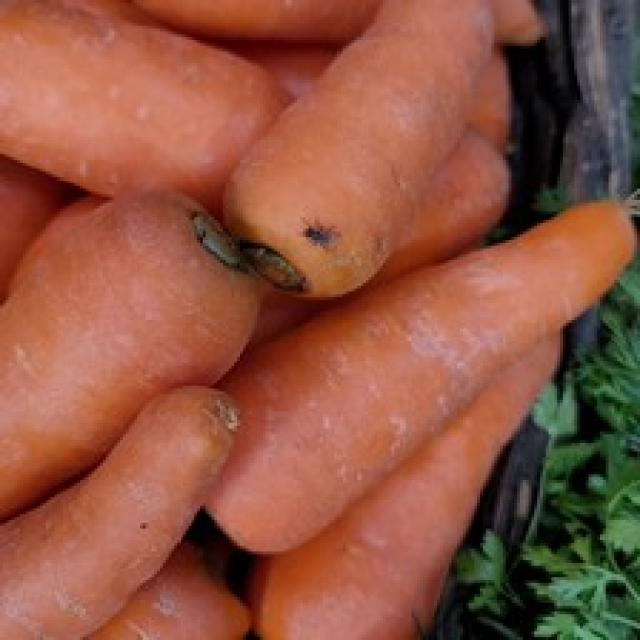Fresh_Carrot: (227, 196, 640, 530), (3, 365, 206, 640)
